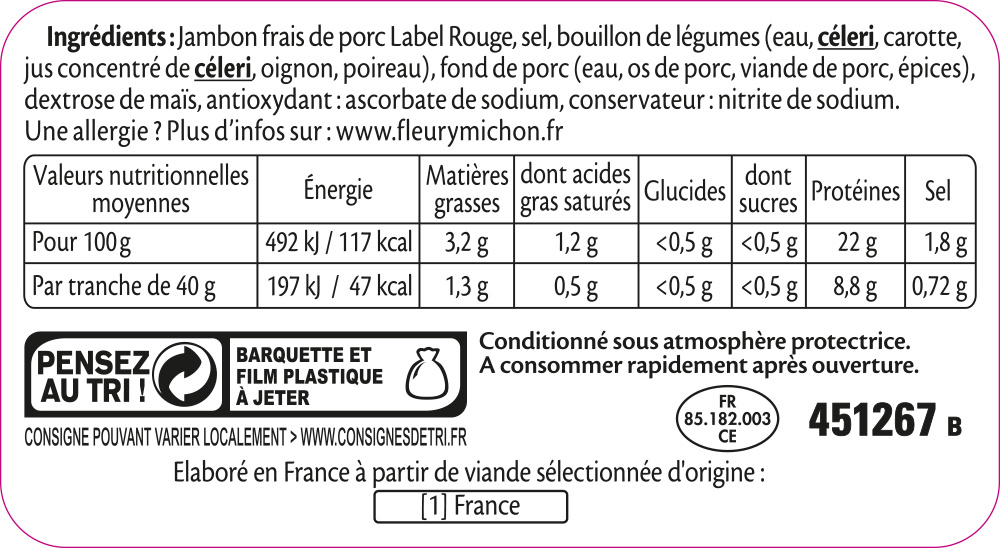column: (29, 161, 249, 302), (265, 164, 414, 303), (520, 159, 629, 302), (811, 160, 900, 301), (425, 160, 508, 304), (644, 158, 726, 301), (738, 159, 800, 301), (912, 161, 969, 301)
table: (23, 154, 979, 309)
